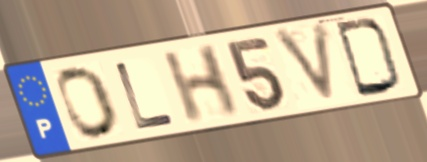5: (221, 35, 288, 113)
D: (332, 17, 405, 100)
H: (159, 41, 243, 127)
L: (112, 58, 179, 132)
O: (55, 64, 121, 142)
V: (269, 18, 342, 109)
